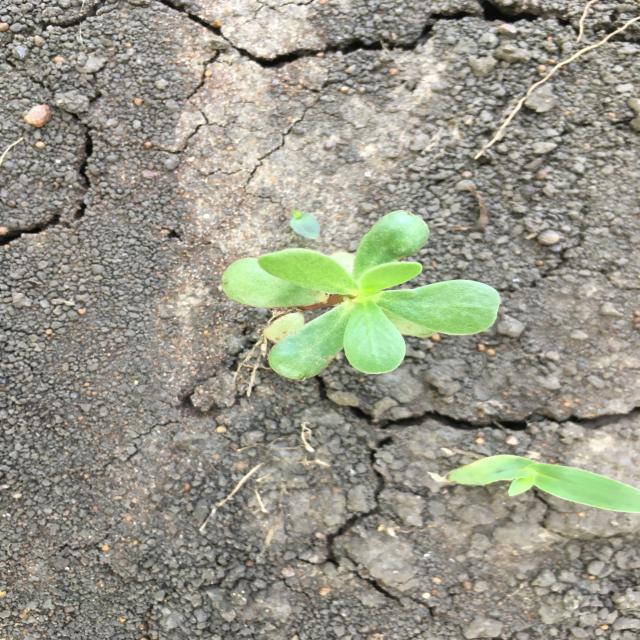Purslane: (216, 208, 506, 382)
